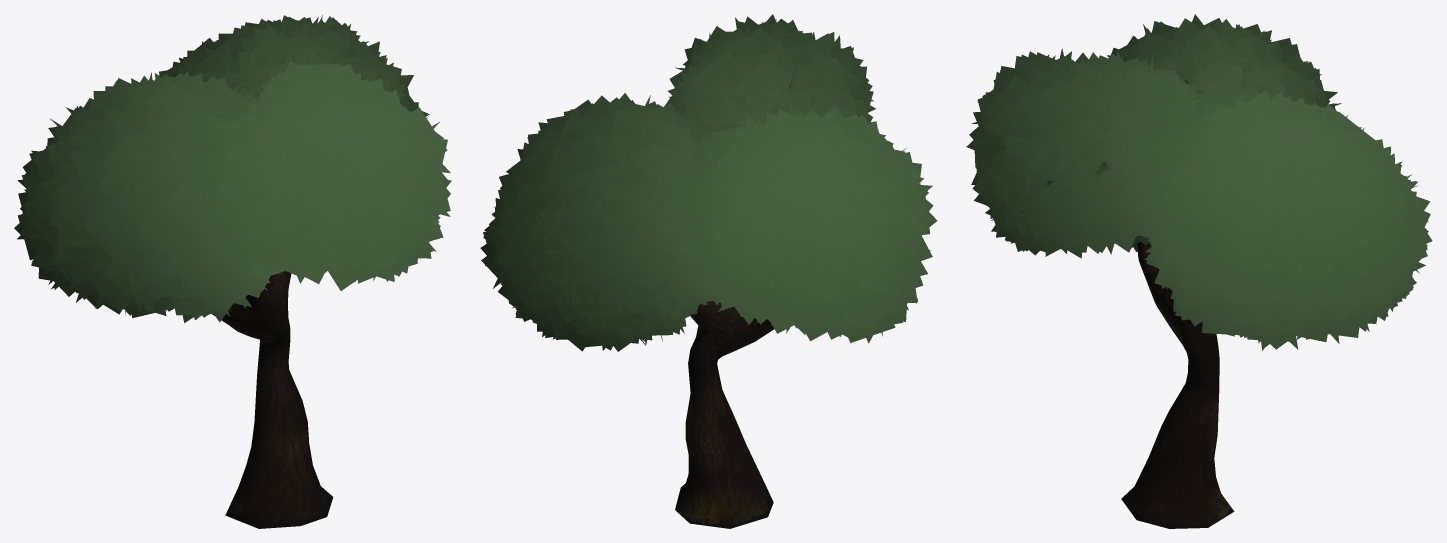
File: tree03_lp.fbx
3 views of the same model, side by side, from view 1: azimuth 30°, elevation 25°; view 2: azimuth 150°, elevation 25°; view 3: azimuth 270°, elevation 25° (orthographic). The views are drawn at different scales.
Parts seen in each view (by area): view 1: tree03_lp; view 2: tree03_lp; view 3: tree03_lp.
Boxes of the visible parts, box(x1,y1,x2,y2) form: tree03_lp: box(14, 15, 451, 528); tree03_lp: box(480, 14, 937, 528); tree03_lp: box(966, 14, 1432, 528).
Size of the model in its own units: 1800 by 1973 by 1828.
